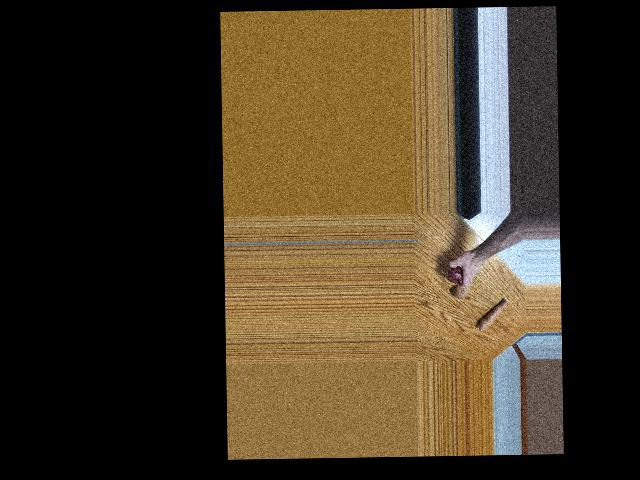onion: (453, 281, 471, 298)
